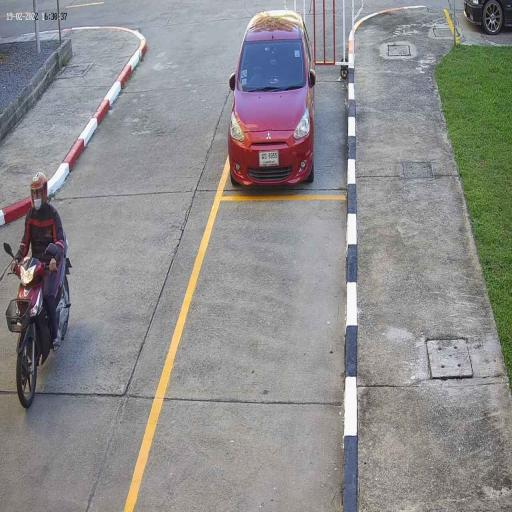car: (228, 9, 316, 190)
motorcycle: (14, 256, 72, 410)
